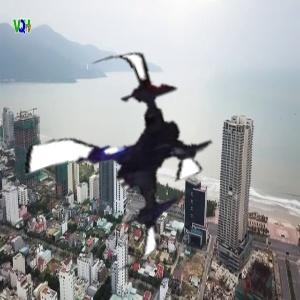drone: (8, 52, 230, 274)
